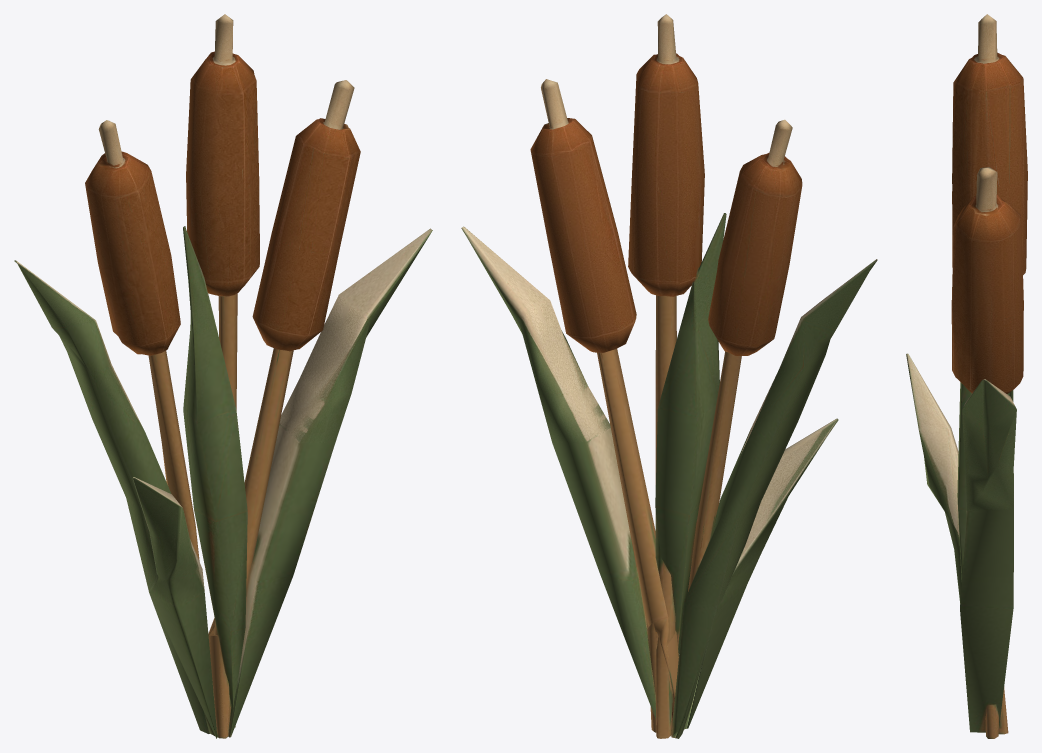
The model's file is AW-WATERPLANT-002-v0.2.glb.
The picture shows the model from 3 angles, left to right: view 1: azimuth 30°, elevation 25°; view 2: azimuth 150°, elevation 25°; view 3: azimuth 270°, elevation 25°; orthographic projection.
Parts seen in each view (by area): view 1: AW-WATERPLANT-002_meter_ground_pivot; view 2: AW-WATERPLANT-002_meter_ground_pivot; view 3: AW-WATERPLANT-002_meter_ground_pivot.
Part boxes in pixels (x1=…): AW-WATERPLANT-002_meter_ground_pivot: x1=14, y1=14, x2=432, y2=738; AW-WATERPLANT-002_meter_ground_pivot: x1=461, y1=14, x2=877, y2=738; AW-WATERPLANT-002_meter_ground_pivot: x1=906, y1=14, x2=1027, y2=738.
Size of the model in its own units: 0.7287 by 1.2 by 0.1842.
1 material, 1 textured.
